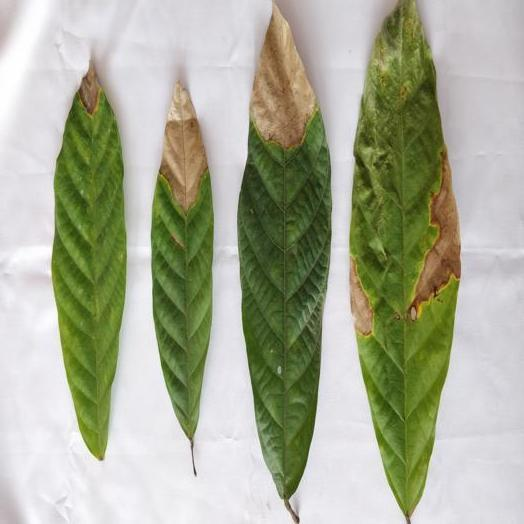Potassium: (351, 0, 460, 523), (239, 3, 330, 523), (51, 62, 126, 459), (152, 82, 213, 474)
